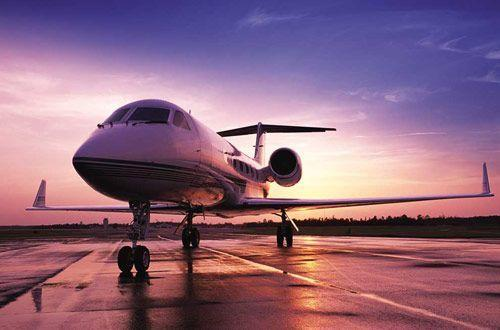airplane: (20, 96, 496, 273)
